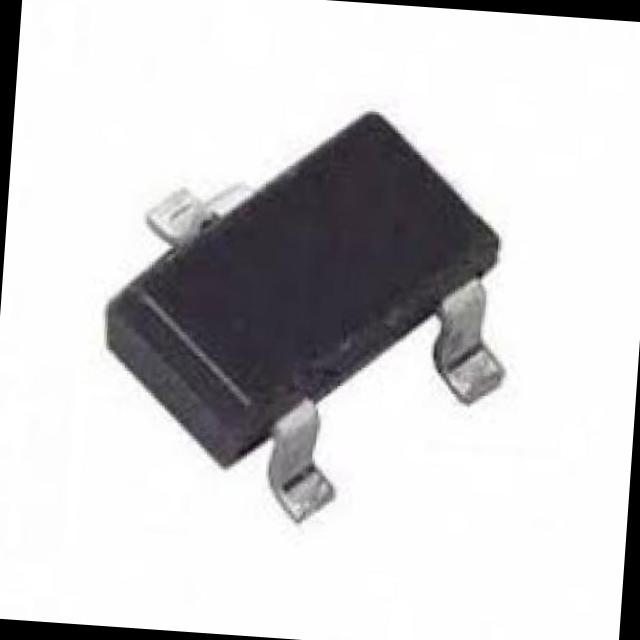transistor: (86, 91, 516, 522)
